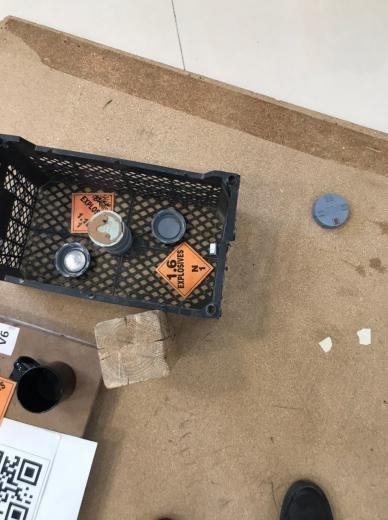explosive: (158, 243, 210, 298), (71, 193, 113, 233)
